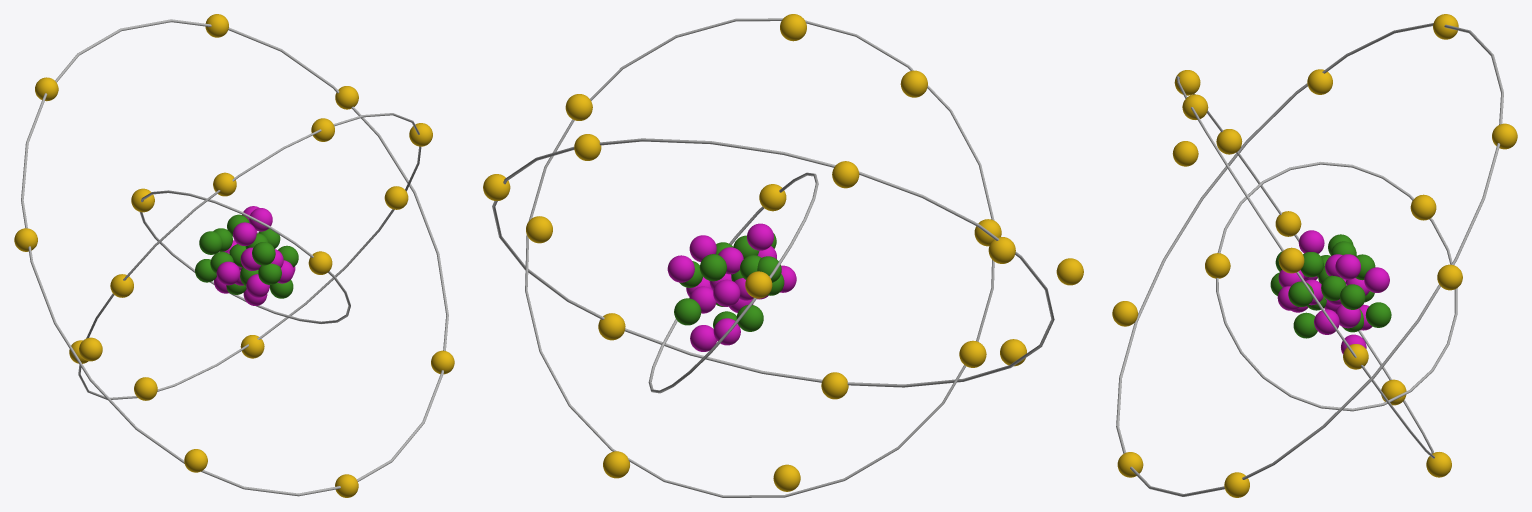
The model's file is argon.fbx.
3 views of the same model, side by side, from view 1: azimuth 30°, elevation 25°; view 2: azimuth 150°, elevation 25°; view 3: azimuth 270°, elevation 25° (orthographic). The views are drawn at different scales.
Parts seen in each view (by area): view 1: Torus1, Torus2, Torus; view 2: Torus1, Torus2, Torus; view 3: Torus1, Torus, Torus2, Sphere51, Sphere14, Sphere19, Sphere17, Sphere16, Sphere69, Sphere52, Sphere78, Sphere10 (+19 smaller).
Boxes of the visible parts, bbox=[...] form: Torus1: bbox=[21, 19, 448, 496]; Torus2: bbox=[78, 113, 421, 399]; Torus: bbox=[139, 190, 350, 323]; Torus1: bbox=[492, 138, 1054, 387]; Torus2: bbox=[525, 18, 994, 497]; Torus: bbox=[648, 172, 818, 393]; Torus1: bbox=[1116, 23, 1503, 496]; Torus: bbox=[1216, 162, 1457, 411]; Torus2: bbox=[1176, 76, 1434, 458]; Sphere51: bbox=[1335, 254, 1360, 279]; Sphere14: bbox=[1410, 194, 1436, 220]; Sphere19: bbox=[1275, 211, 1301, 236]; Sphere17: bbox=[1278, 247, 1304, 273]; Sphere16: bbox=[1205, 253, 1230, 278]; Sphere69: bbox=[1340, 284, 1365, 309]; Sphere52: bbox=[1364, 267, 1389, 292]; Sphere78: bbox=[1172, 141, 1198, 166]; Sphere10: bbox=[1365, 302, 1391, 327].
Bounding box in the file's own units: 20.67 × 16.76 × 15.74.
